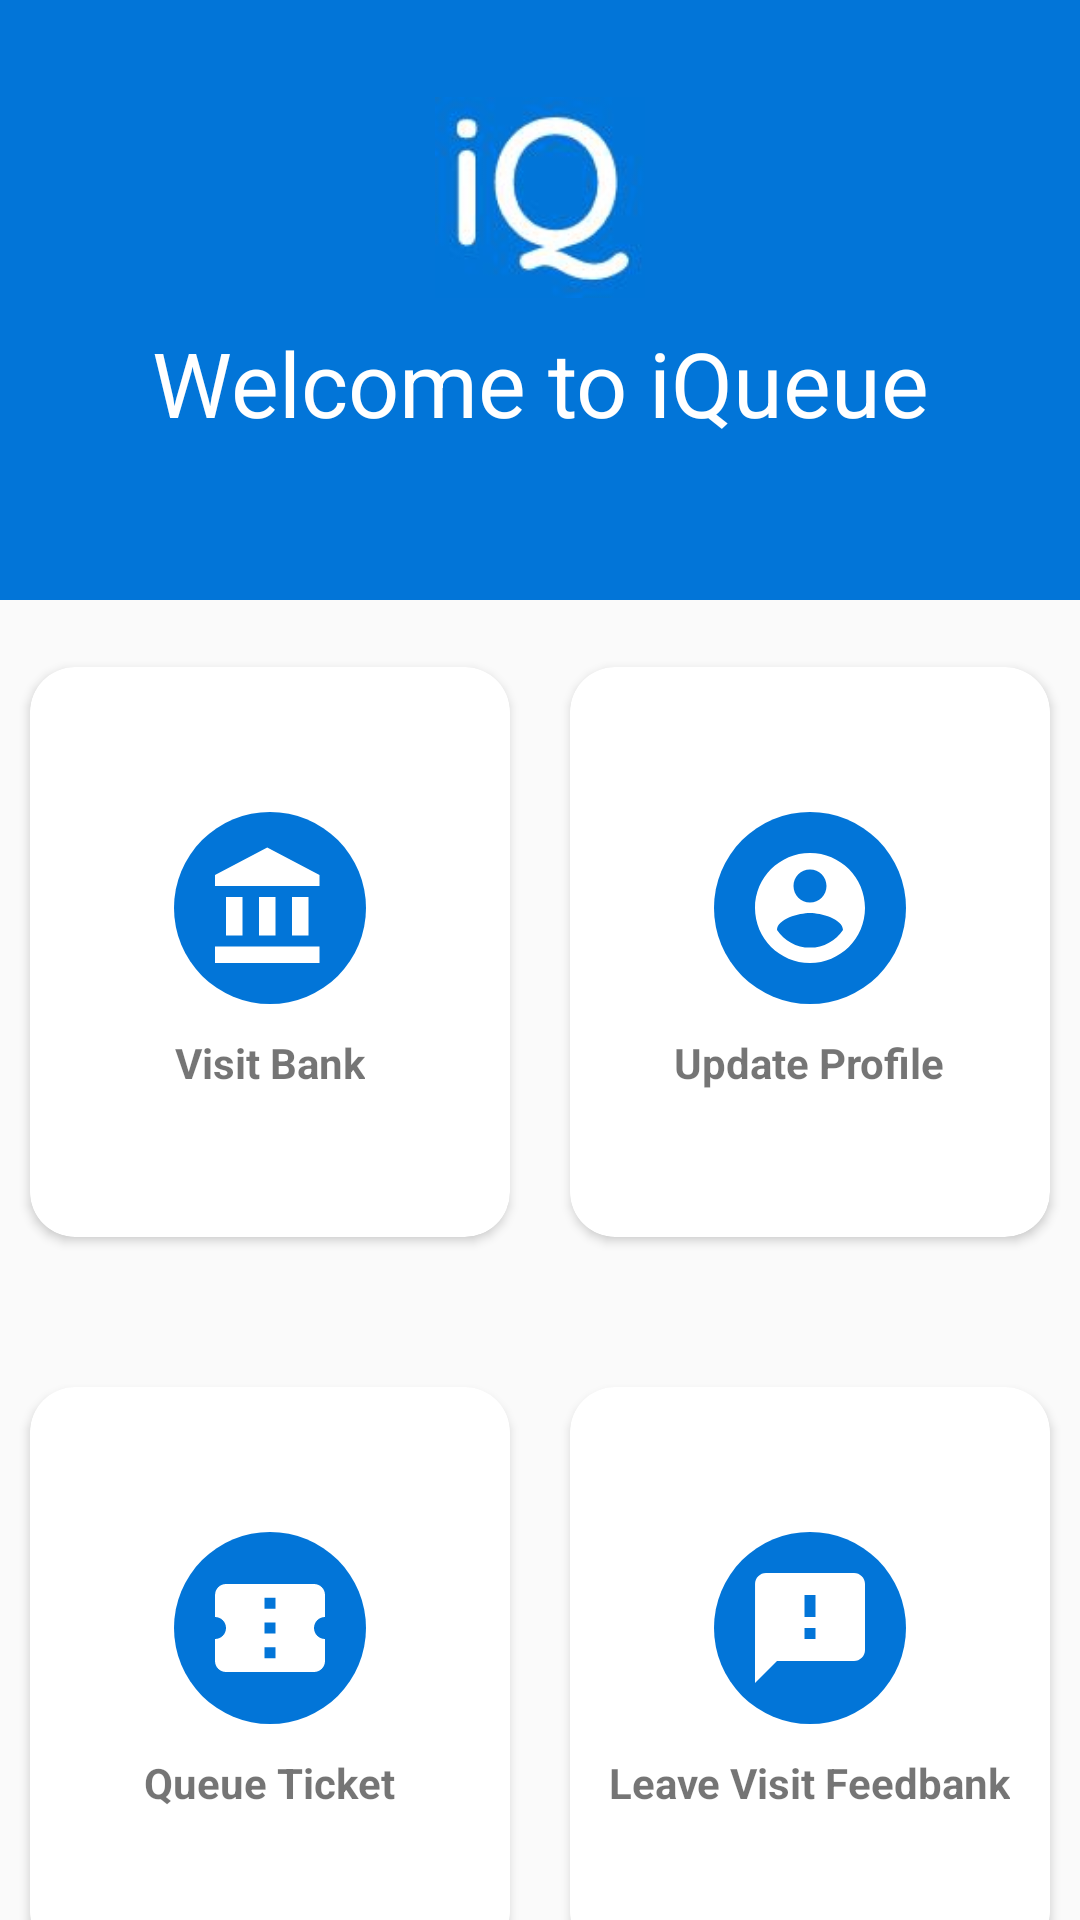

Screen size 1080px×1920px. Icon name, then its center in pixels as (x,y):
account balance: (270,908)
account circle: (810,908)
confirmation number: (270,1628)
